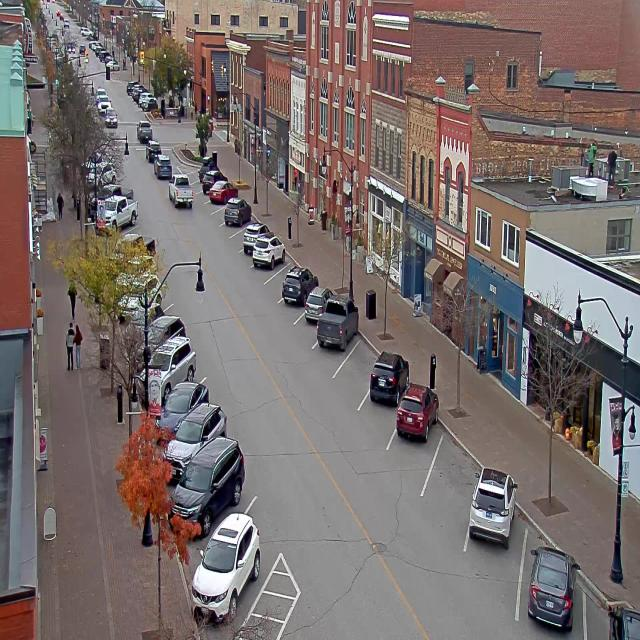available: (429, 428, 482, 509), (343, 332, 379, 387), (265, 256, 293, 294), (229, 227, 246, 252), (210, 202, 226, 226), (187, 165, 200, 184)
occupied: (186, 500, 271, 612), (168, 435, 245, 538), (165, 398, 235, 462), (527, 544, 579, 630), (468, 466, 517, 547), (154, 380, 208, 441), (146, 333, 200, 385), (395, 381, 438, 444), (588, 588, 638, 639), (316, 296, 358, 351), (368, 350, 409, 406), (141, 312, 187, 346), (282, 264, 318, 305), (252, 232, 285, 269), (301, 288, 331, 324), (242, 221, 266, 258), (224, 196, 252, 226), (200, 168, 224, 192), (209, 180, 230, 203), (198, 157, 215, 179)
